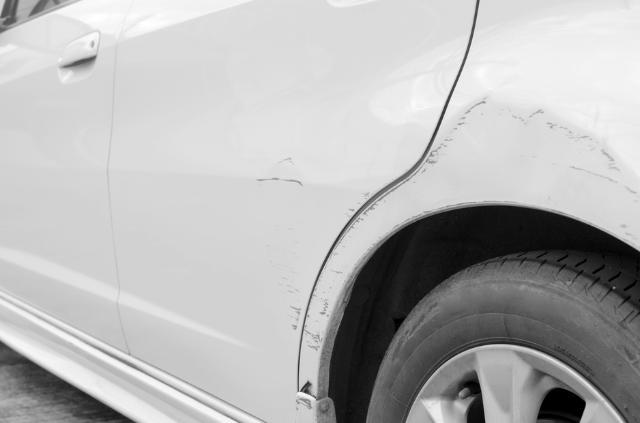Door: (245, 132, 328, 231)
Fender: (400, 83, 624, 220)
